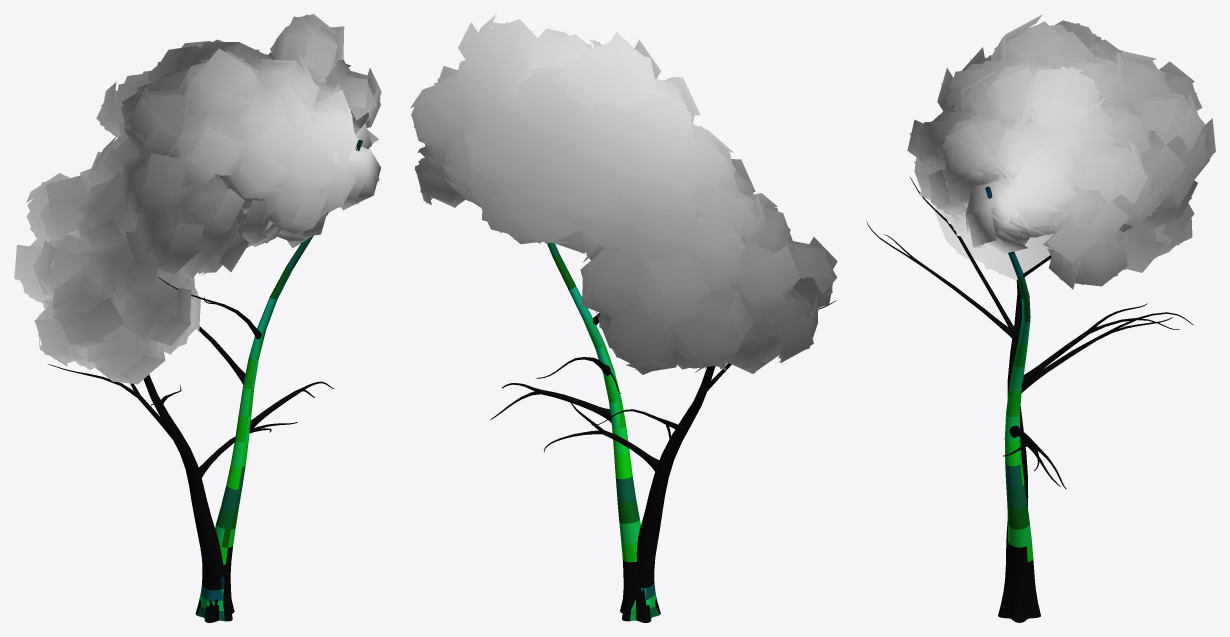
Rendered from SM_tree_maple_01.fbx.
3 views of the same model, side by side, from view 1: azimuth 30°, elevation 25°; view 2: azimuth 150°, elevation 25°; view 3: azimuth 270°, elevation 25° (orthographic). The views are drawn at different scales.
Visible parts, largest first — view 1: tree_b; view 2: tree_b; view 3: tree_b.
Part boxes in pixels (box(x1,y1,x2,y2)): tree_b: box(14, 14, 381, 622); tree_b: box(410, 14, 837, 622); tree_b: box(866, 14, 1215, 622).
Bounding box in the file's own units: 183 × 270 × 141.
